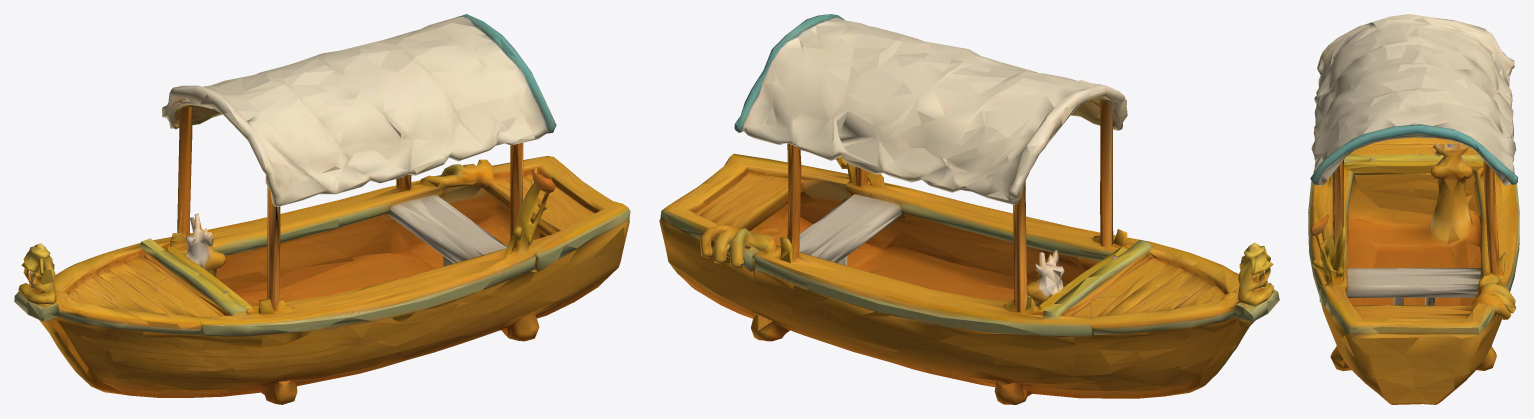
Rendered from tripo-ferry-6k.glb.
3 renders of one model, left to right at view 1: azimuth 30°, elevation 25°; view 2: azimuth 150°, elevation 25°; view 3: azimuth 270°, elevation 25°, orthographic. The views are drawn at different scales.
Visible parts, largest first — view 1: tripo_node_a517a918-5587-48f3-8f2d-fe1af6e1f6bb; view 2: tripo_node_a517a918-5587-48f3-8f2d-fe1af6e1f6bb; view 3: tripo_node_a517a918-5587-48f3-8f2d-fe1af6e1f6bb.
Boxes of the visible parts, x1=… form: tripo_node_a517a918-5587-48f3-8f2d-fe1af6e1f6bb: x1=14, y1=14, x2=630, y2=404; tripo_node_a517a918-5587-48f3-8f2d-fe1af6e1f6bb: x1=659, y1=14, x2=1279, y2=404; tripo_node_a517a918-5587-48f3-8f2d-fe1af6e1f6bb: x1=1308, y1=14, x2=1519, y2=404.
Bounding box in the file's own units: 0.9785 × 0.4661 × 0.3615.
Materials: 1 (1 with a texture image).
